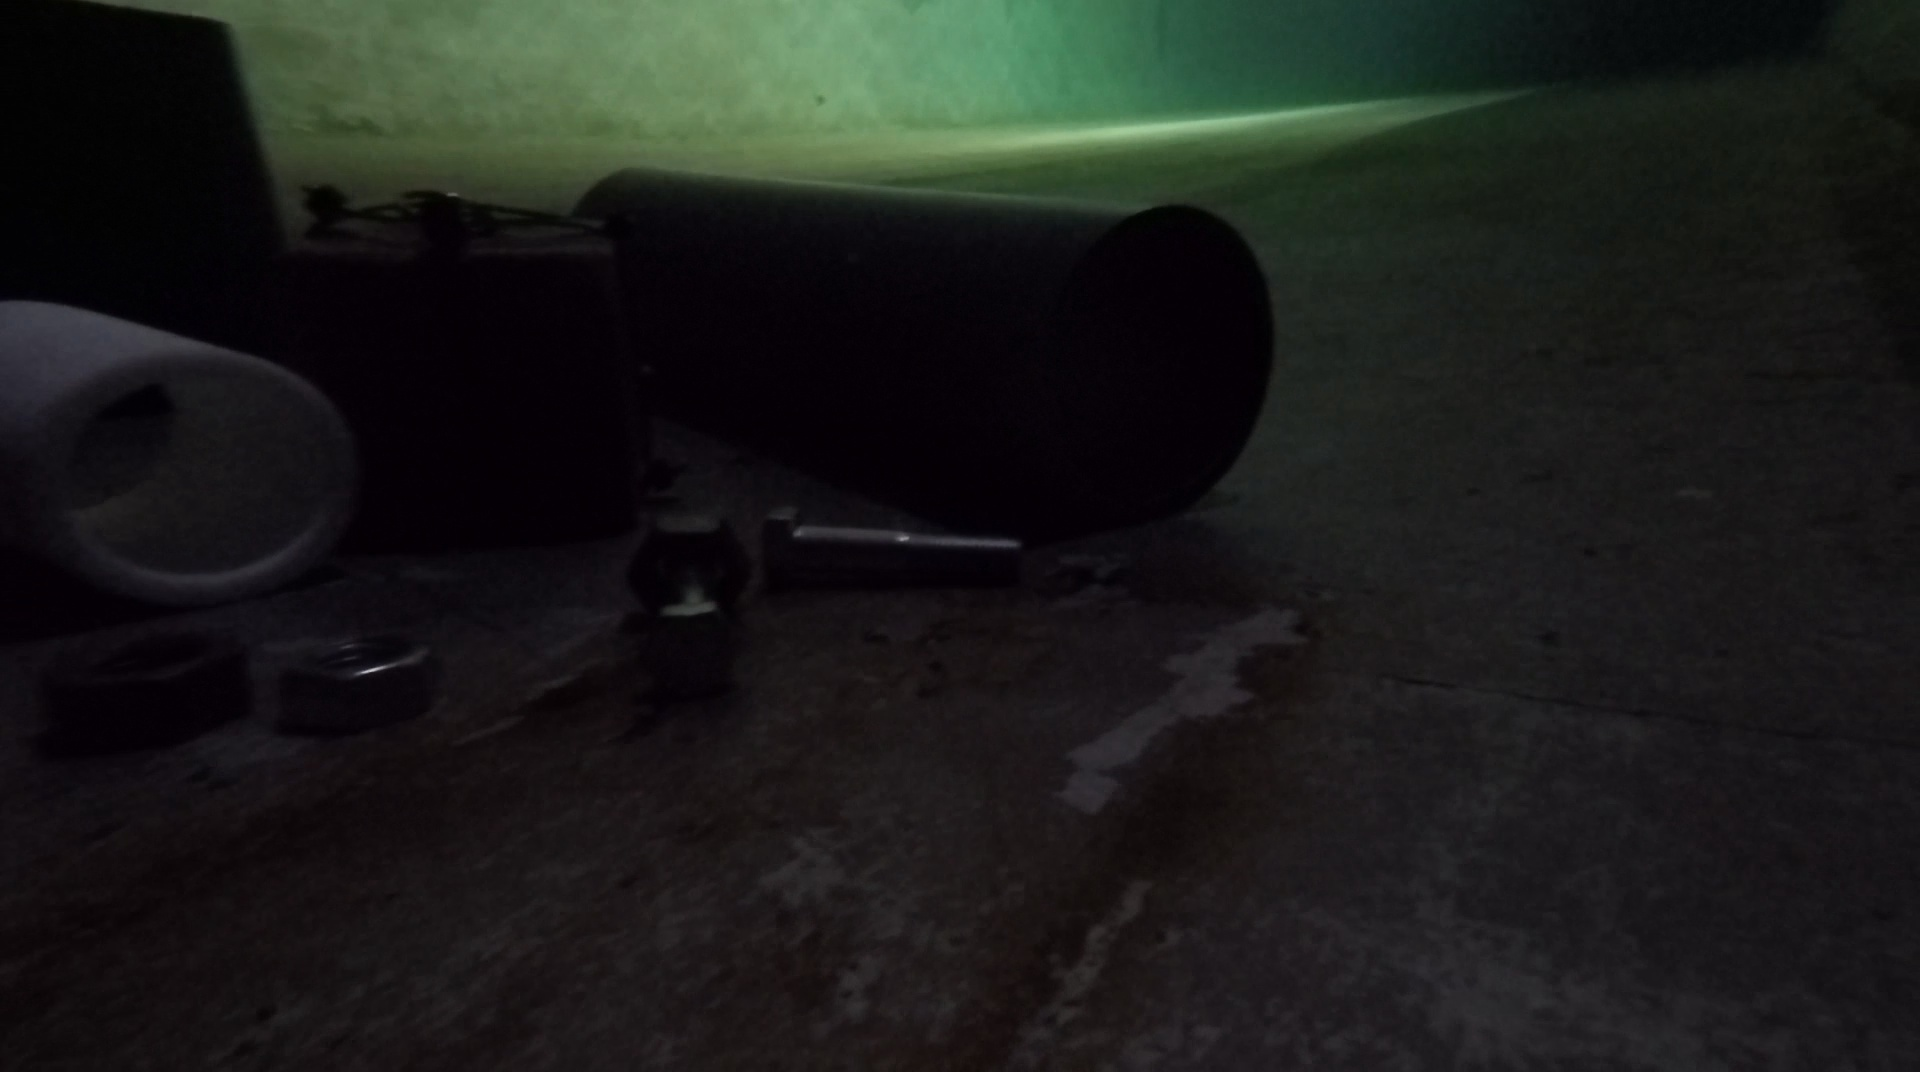bolt: (764, 508, 1025, 588), (647, 502, 740, 700)
led_block: (301, 182, 645, 547)
nut: (49, 626, 253, 741), (281, 636, 442, 730), (629, 520, 756, 603)
pipe: (568, 164, 1276, 531), (1, 298, 363, 605)
